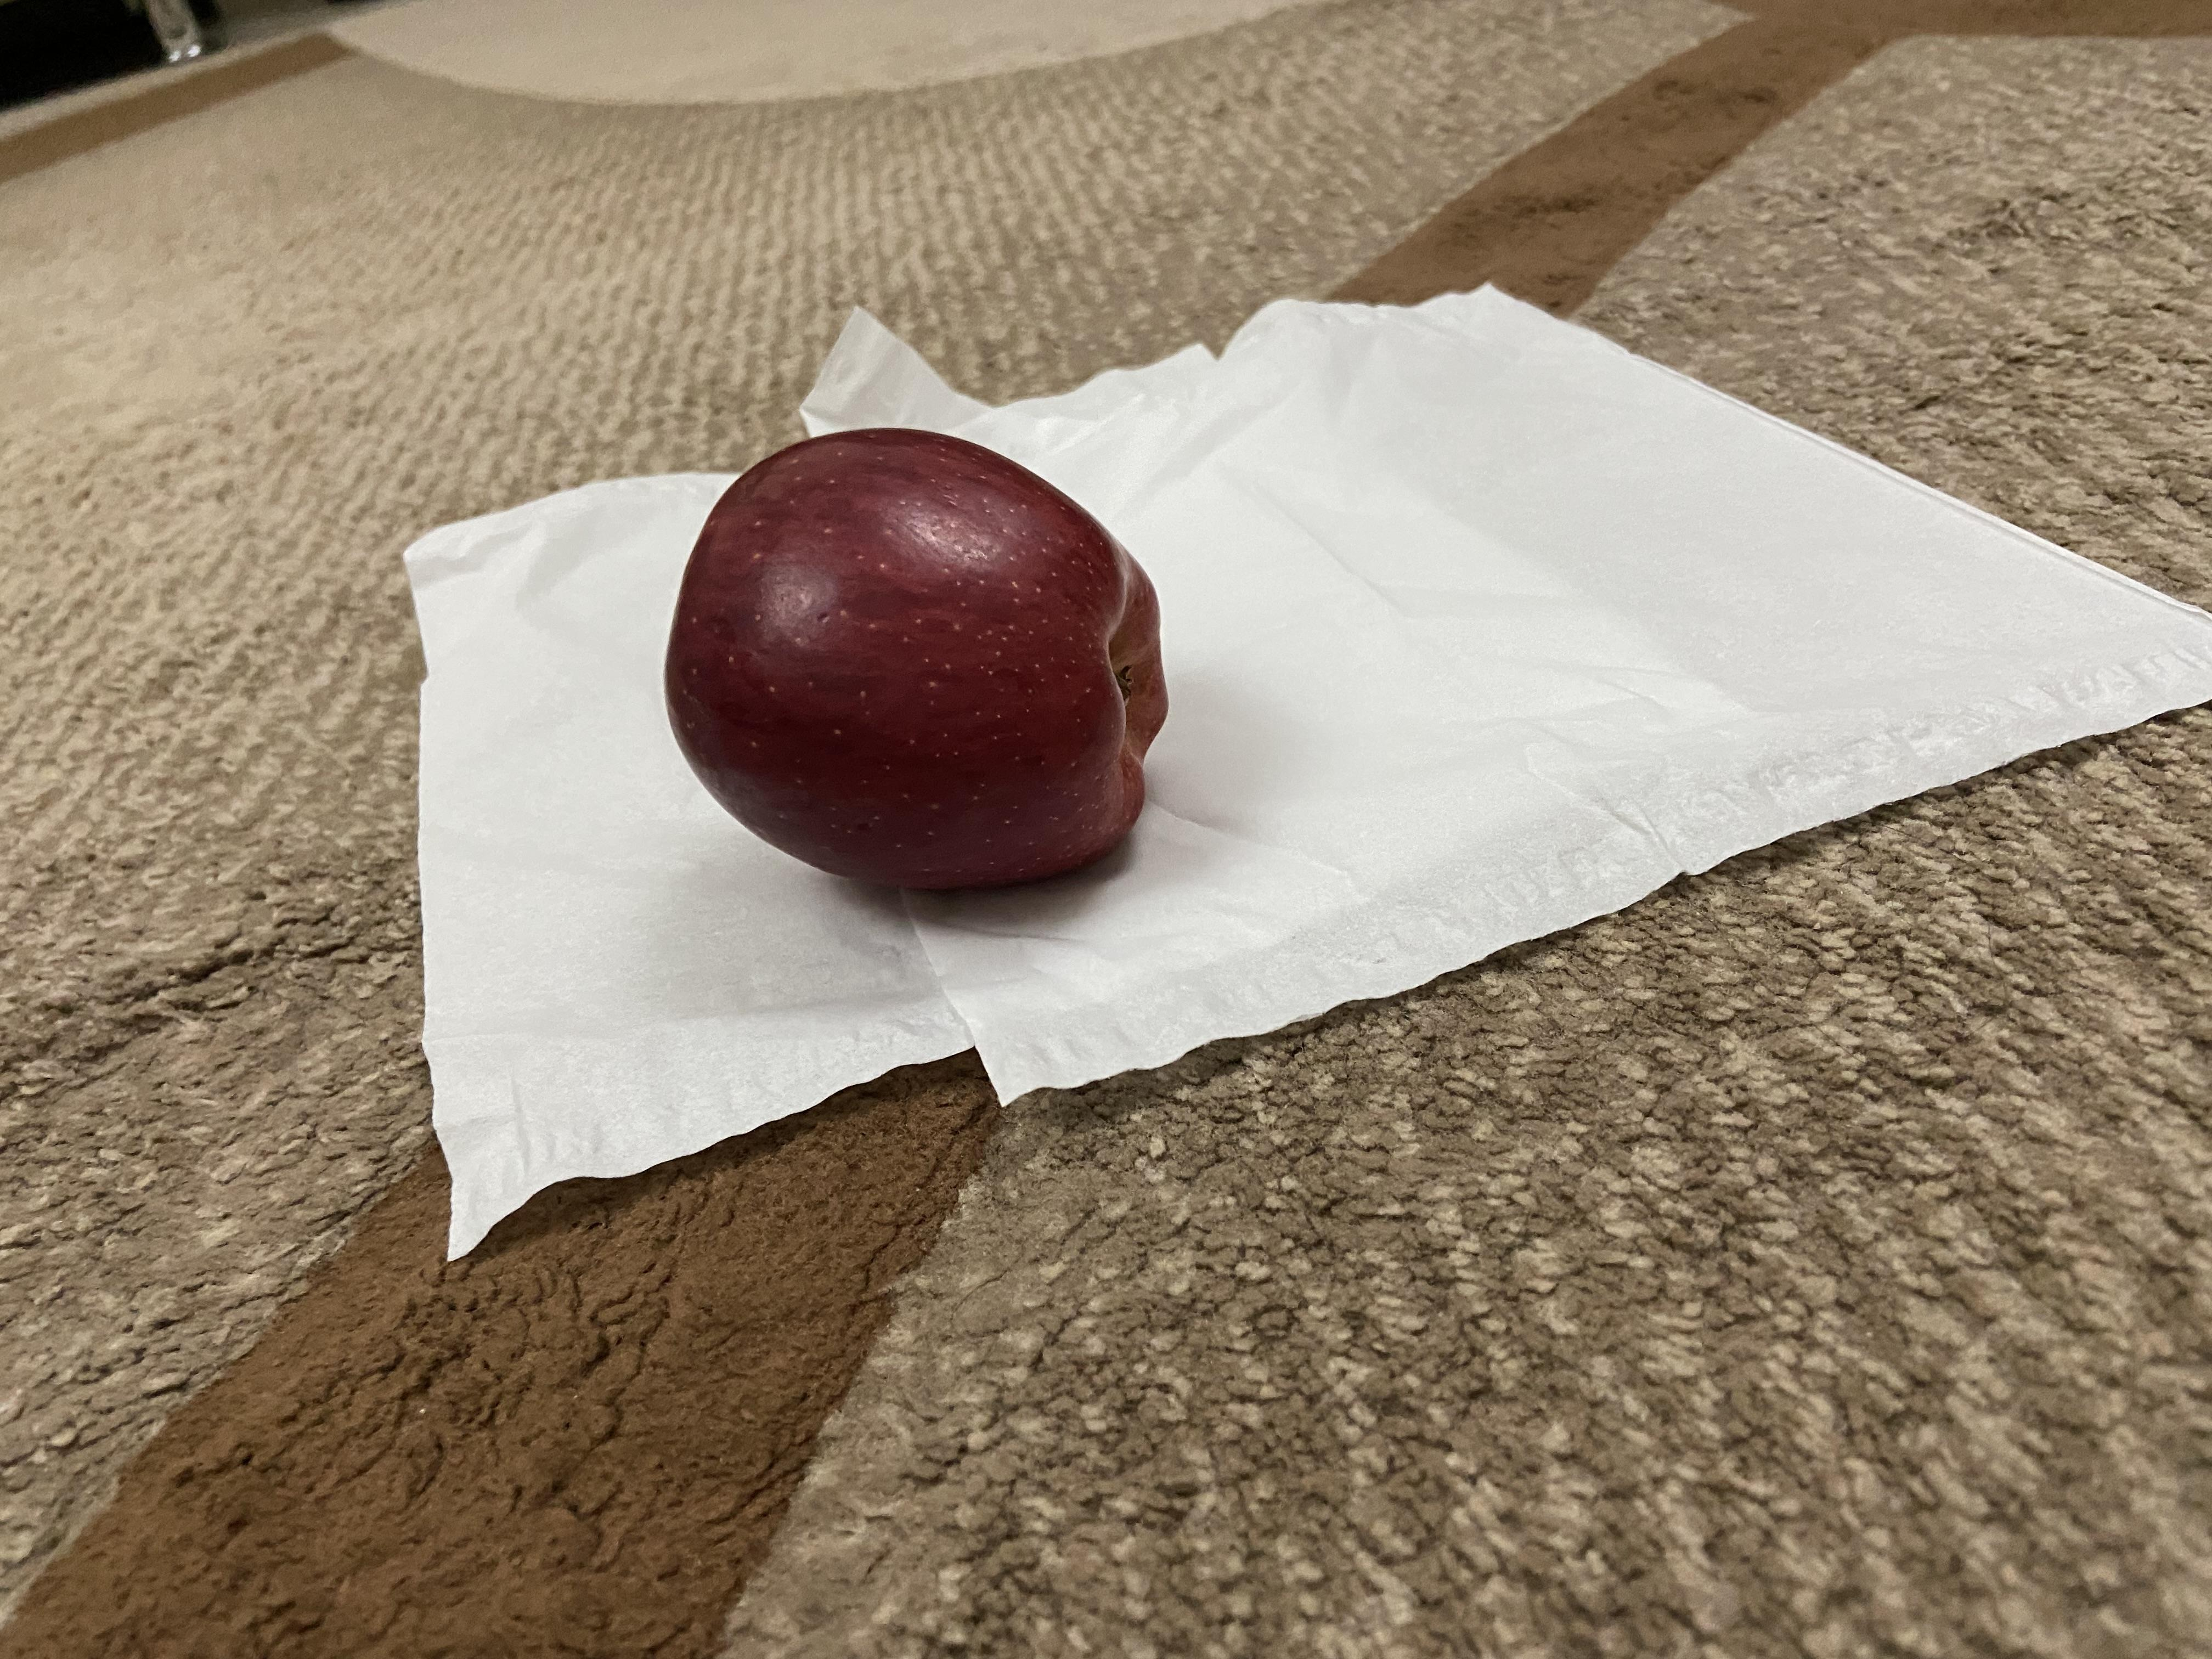Apple: (655, 411, 1186, 922)
